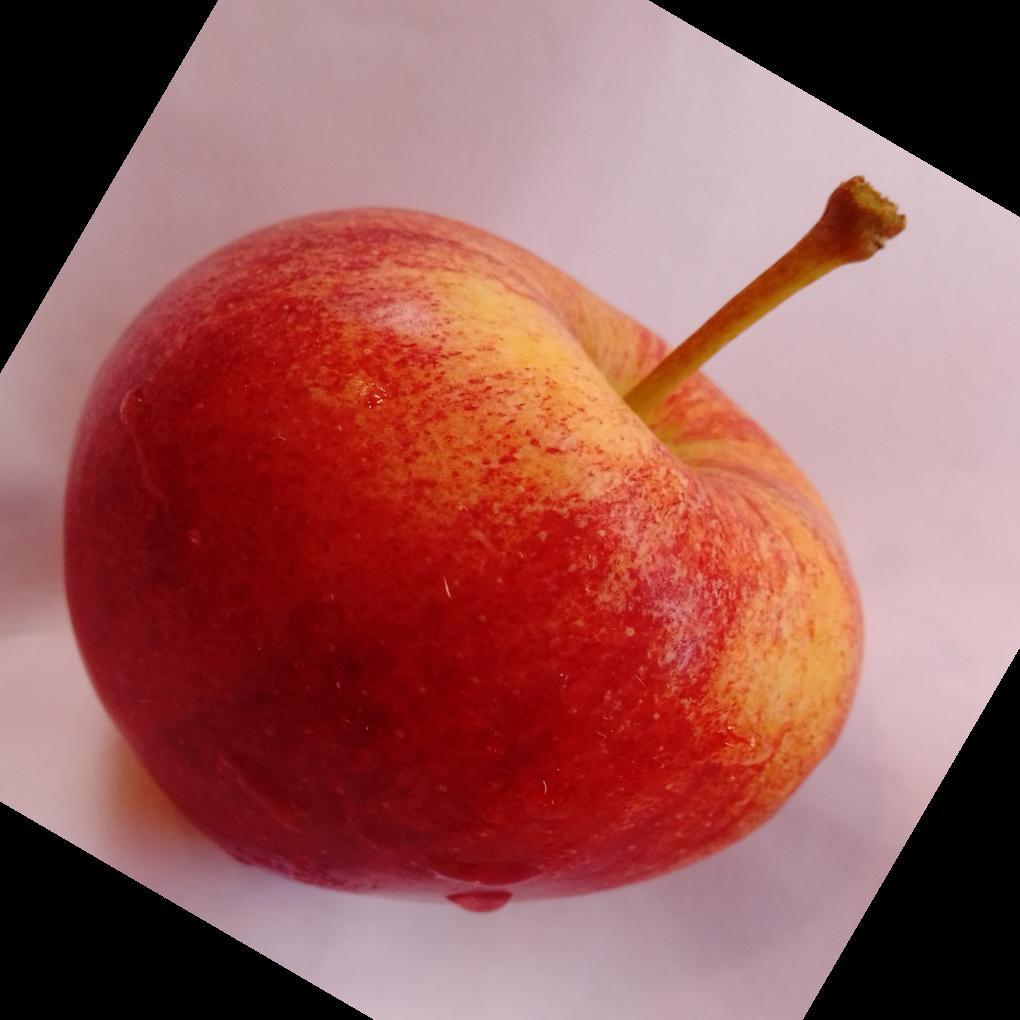FreshGuava: (58, 207, 866, 918)
